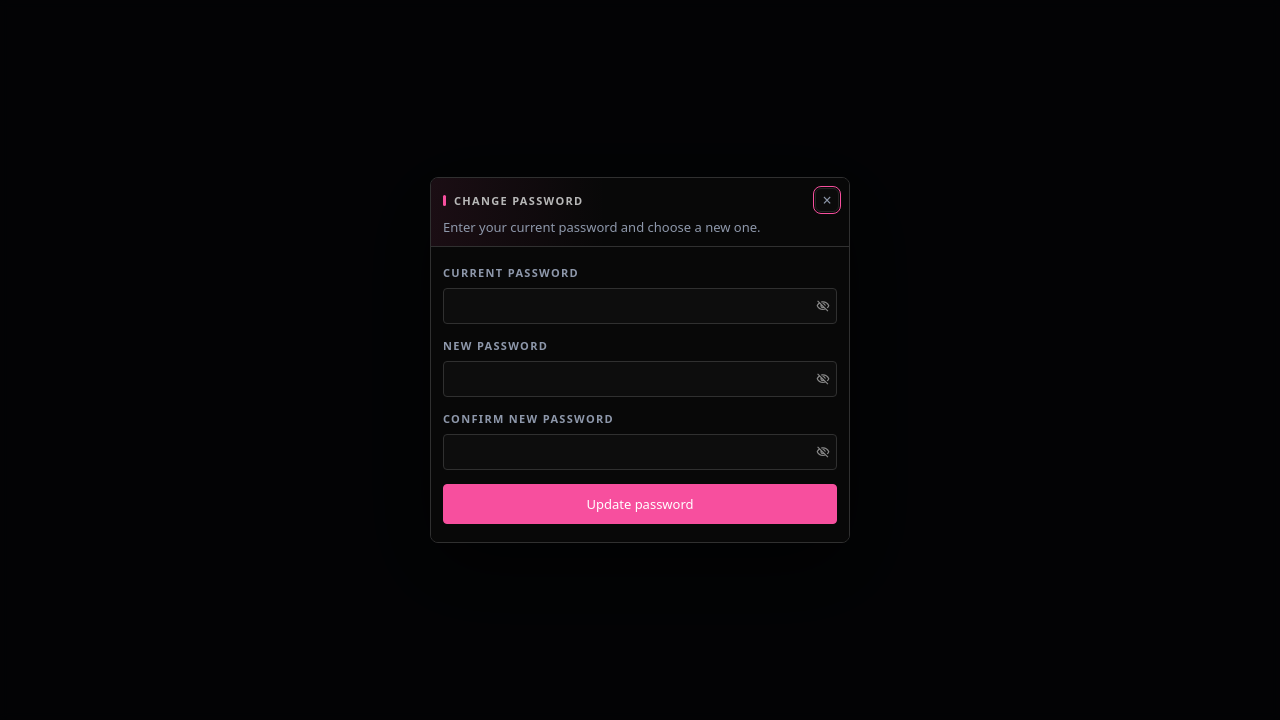
it: ChangePasswordModal › shows client-side validation instead of submitting invalid form
Click the button "Update password" at [640, 504], box [443,484,837,524]
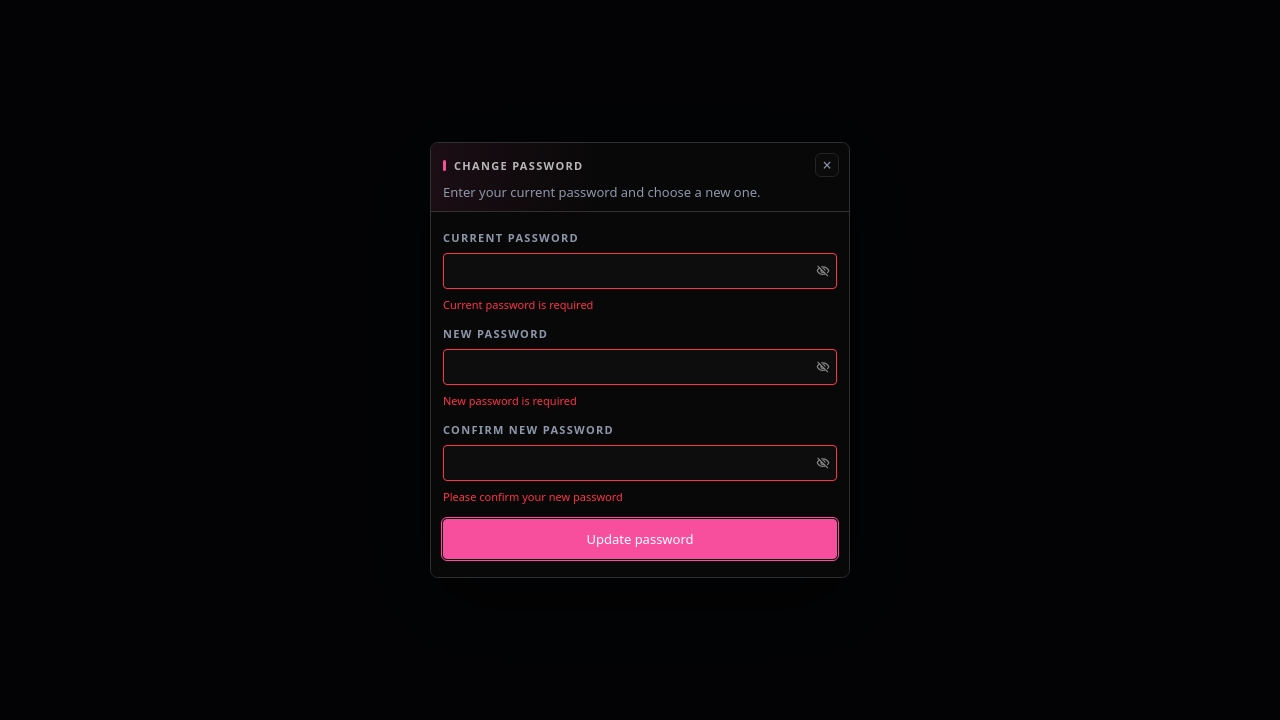
Result: the text "Current password is required" is shown at [443,297,593,312]
Result: the text "New password is required" is shown at [443,393,577,408]
Result: the text "Please confirm your new password" is shown at [443,489,623,504]
